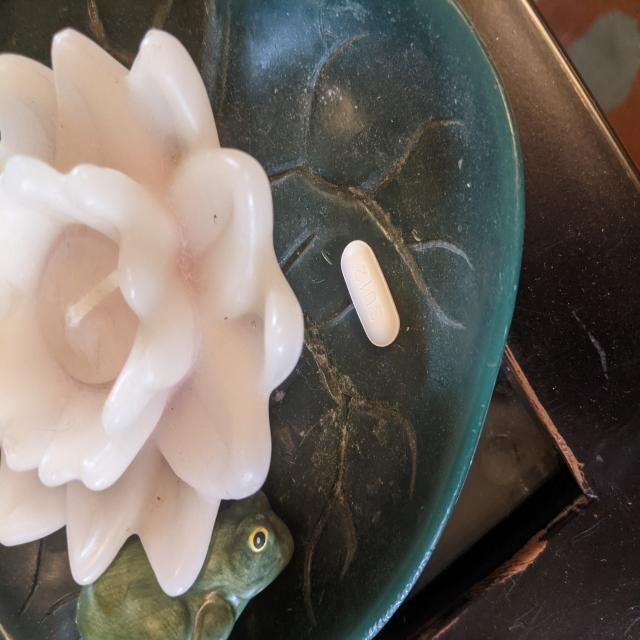non-organic waste: (340, 238, 401, 348)
